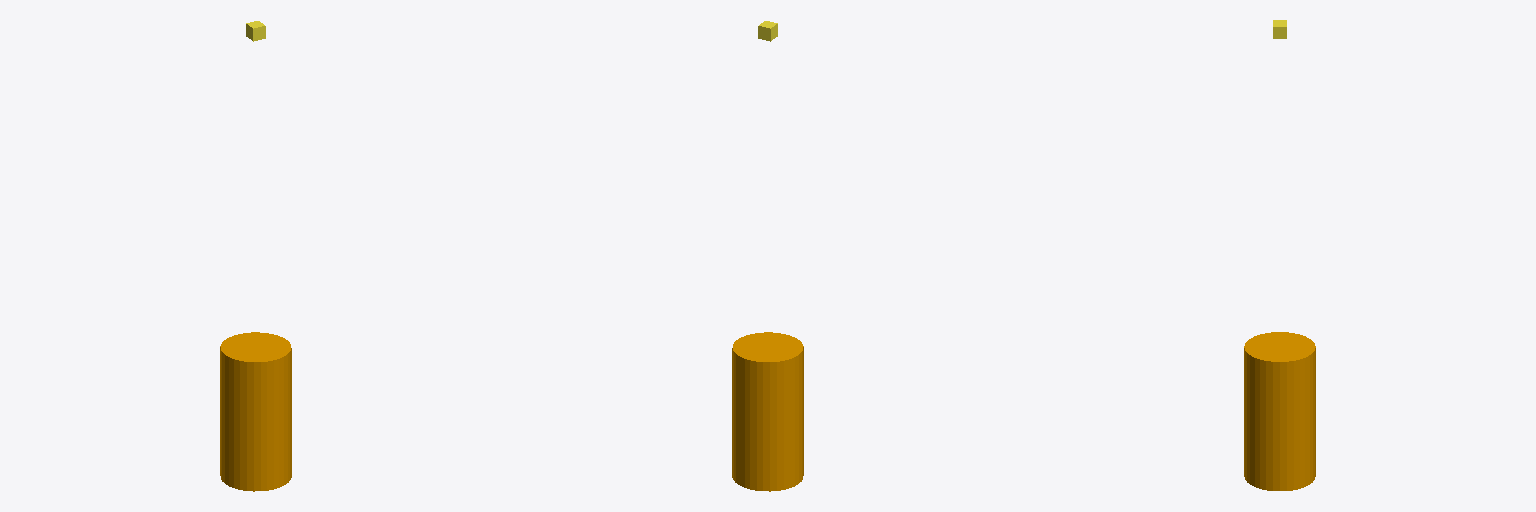
The robot description file, URDF, robot "PBot":
<?xml version="1.0" ?>
<!--simple pbot-->

<robot name="PBot">
    <link name="base_link">
        <inertial>
            <origin xyz="0.0 0.0 0.0" rpy="0 0 0" />
            <mass value="1" />
            <inertia ixx="0.1" iyy="0.1" izz="0.1" ixy="0" ixz="0" iyz="0" />
        </inertial>
        <collision>
            <origin xyz="0.0 0.0 -1.0" rpy="0 0 0" />
            <geometry>
                <cylinder radius="0.25" length="1.0"/>
            </geometry>
        </collision>
        <visual>
            <origin xyz="0.0 0.0 -1.0" rpy="0 0 0" />
            <geometry>
                <cylinder radius="0.25" length="1.0"/>
            </geometry>
        </visual>
    </link>
    <link name="link000">
        <inertial>
            <origin xyz="0.0 0.0 0.0" rpy="0 0 0" />
            <mass value="0.01" />
            <inertia ixx="0.0001" iyy="0.001" izz="0.001" ixy="0" ixz="0" iyz="0" />
        </inertial>
    </link>
    <link name="link00">
        <inertial>
            <origin xyz="0.0 0.0 0.0" rpy="0 0 0" />
            <mass value="0.01" />
            <inertia ixx="0.0001" iyy="0.001" izz="0.001" ixy="0" ixz="0" iyz="0" />
        </inertial>
    </link>
    <link name="link0">
        <inertial>
            <origin xyz="0.0 0.0 0.0" rpy="0 0 0" />
            <mass value="1" />
            <inertia ixx="0.01" iyy="0.001" izz="0.001" ixy="0" ixz="0" iyz="0" />
        </inertial>
        <collision>
            <origin xyz="0.0 0.0 -0.05" rpy="0 0 0" />
            <geometry>
                <!-- <sphere radius="0.1" /> -->
                <box size="0.1 0.1 0.1" />
            </geometry>
        </collision>
        <visual>
            <origin xyz="0.0 0.0 -0.05" rpy="0 0 0" />
            <geometry>
                <!-- <sphere radius="0.1" /> -->
                <box size="0.1 0.1 0.1" />
            </geometry>
        </visual>
    </link>
    
    <joint name="j0" type="prismatic">
        <parent link="base_link" />
        <child link="link000" />
        <origin xyz="0.000000 0.000000 2.000000" rpy="-0.000000 0.000000 -0.000000" />
        <axis xyz="0 1 0" />
        <limit lower="-2.967" upper="2.967" effort="176" velocity="1.7104" />
    </joint>
    <joint name="j1" type="prismatic">
        <parent link="link000" />
        <child link="link00" />
        <origin xyz="0.000000 0.000000 0.000000" rpy="-0.000000 0.000000 -0.000000" />
        <axis xyz="0 0 1" />
        <limit lower="-2.967" upper="2.967" effort="176" velocity="1.7104" />
    </joint>
    <joint name="j2" type="revolute">
        <parent link="link00" />
        <child link="link0" />
        <origin xyz="0.000000 0.000000 0.000000" rpy="-0.000000 0.000000 -0.000000" />
        <axis xyz="1 0 0" />
        <limit lower="-2.967" upper="2.967" effort="176" velocity="1.7104" />
    </joint>
    
</robot>

--- Facts derived from the render (not from the file) ---
The picture shows the robot from 3 angles, left to right: view 1: azimuth 30°, elevation 25°; view 2: azimuth 150°, elevation 25°; view 3: azimuth 270°, elevation 25°; orthographic projection.
Robot: PBot — 4 links, 3 joints (1 revolute, 2 prismatic); root link base_link; default pose: all joints at 0.
Links seen in each view (by area): view 1: base_link; view 2: base_link; view 3: base_link.
Boxes of the visible links, box(x1,y1,x2,y2) form: base_link: box(220, 332, 291, 491); base_link: box(732, 332, 803, 491); base_link: box(1244, 332, 1315, 490).
Bounding box of the posed robot: 0.5 × 0.5 × 3.5 m (x, y, z).
Geometry: primitives only (box / cylinder / sphere), no mesh files.